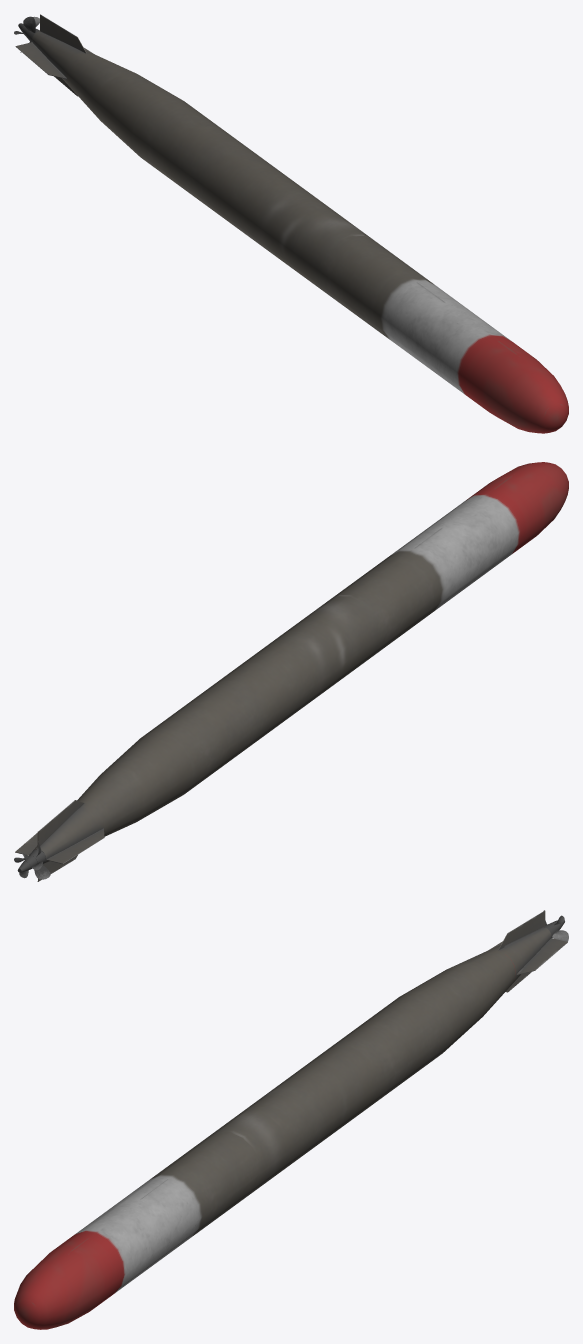
File: torpedo.glb
The picture shows the model from 3 angles, top to bottom: view 1: azimuth 30°, elevation 25°; view 2: azimuth 150°, elevation 25°; view 3: azimuth 330°, elevation 25°; orthographic projection.
Visible parts, largest first — view 1: Cube; view 2: Cube; view 3: Cube.
Part boxes in pixels (x1,y1,x2,y2): Cube: (15, 14, 568, 433); Cube: (15, 462, 568, 881); Cube: (14, 910, 567, 1329).
Bounding box in the file's own units: 0.5615 × 0.5615 × 8.48.
Materials: 3 (3 with a texture image).
